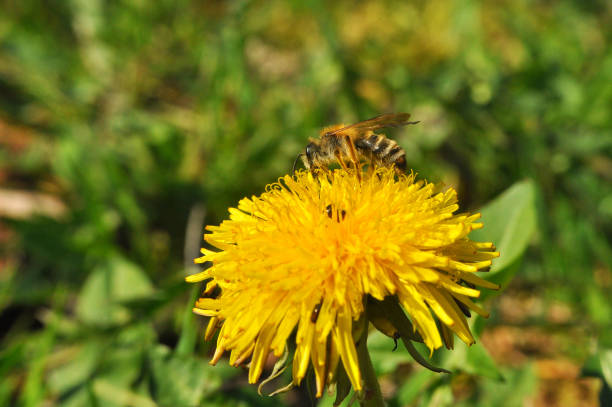dandelion: (215, 170, 461, 347)
